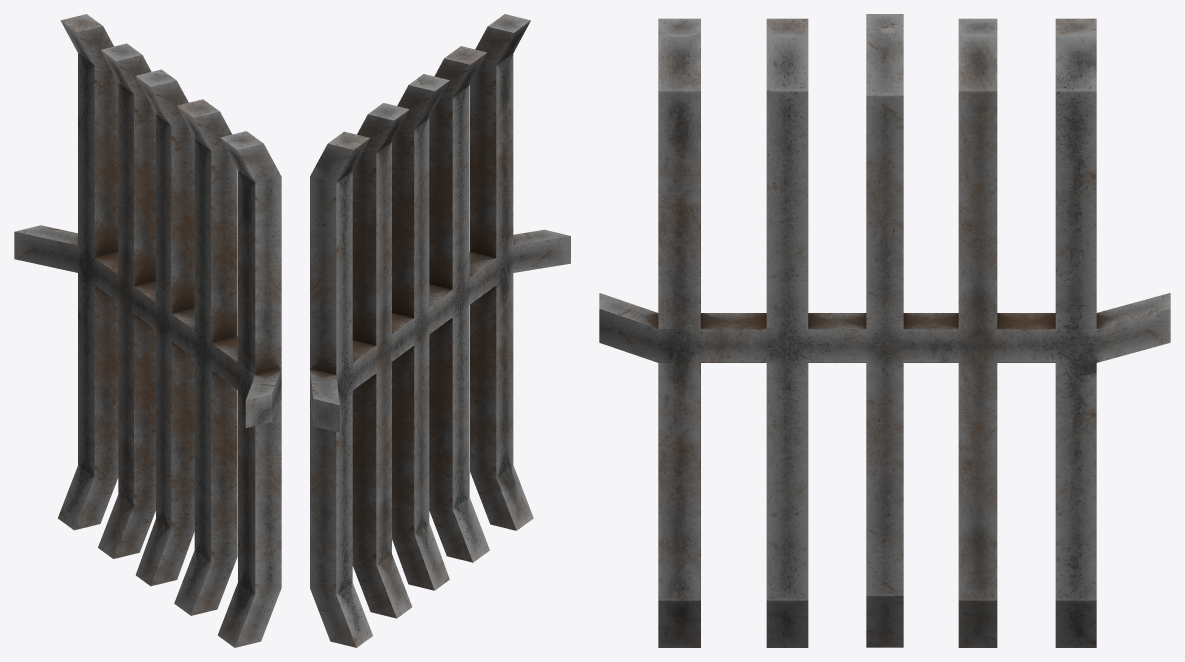
File: BurglarBars_01.fbx
3 views of the same model, side by side, from view 1: azimuth 30°, elevation 25°; view 2: azimuth 150°, elevation 25°; view 3: azimuth 270°, elevation 25° (orthographic). The views are drawn at different scales.
Parts seen in each view (by area): view 1: pCube1; view 2: pCube1; view 3: pCube1.
Part boxes in pixels (x1,y1,x2,y2): pCube1: [14, 14, 281, 647]; pCube1: [310, 14, 570, 647]; pCube1: [599, 14, 1170, 647].
Size of the model in its own units: 2.28 by 18.13 by 15.2.
